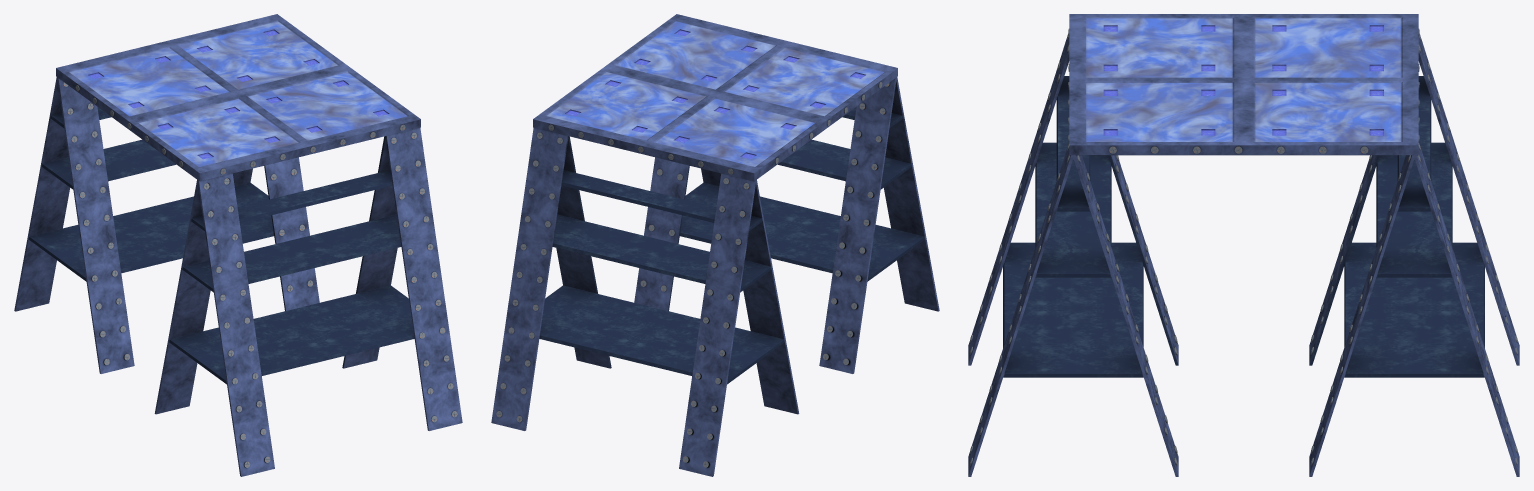
3 renders of one model, left to right at view 1: azimuth 30°, elevation 25°; view 2: azimuth 150°, elevation 25°; view 3: azimuth 270°, elevation 25°, orthographic. The views are drawn at different scales.
Visible parts, largest first — view 1: Support, Base, ScrewDiagonal.001; view 2: Support, Base, ScrewDiagonal; view 3: Support, Base, ScrewDiagonal, ScrewDiagonal.001.
Boxes of the visible parts, x1,y1,x2,y2 form: Support: [14, 77, 462, 476]; Base: [56, 14, 420, 181]; ScrewDiagonal.001: [63, 82, 457, 467]; Support: [491, 77, 939, 476]; Base: [533, 14, 897, 181]; ScrewDiagonal: [496, 82, 889, 467]; Support: [968, 33, 1519, 476]; Base: [1069, 14, 1418, 155]; ScrewDiagonal: [1077, 34, 1517, 465]; ScrewDiagonal.001: [970, 33, 1410, 465].
Bounding box in the file's own units: 536 × 627 × 945.
Materials: 4 (4 with a texture image).
